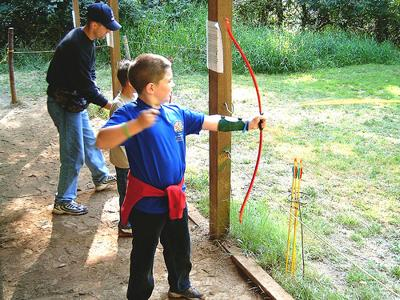person: (94, 50, 267, 300)
